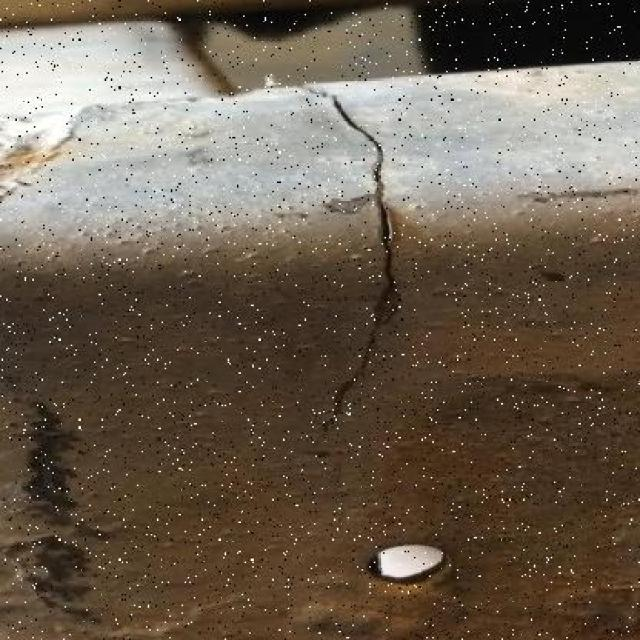Defect: (301, 77, 413, 443)
